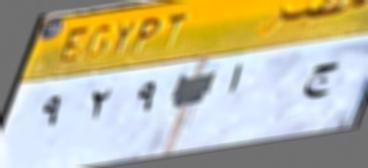2: (82, 86, 118, 127)
9: (37, 87, 70, 136), (132, 74, 167, 116)
alif: (219, 60, 252, 107)
jeem: (295, 54, 348, 107)
